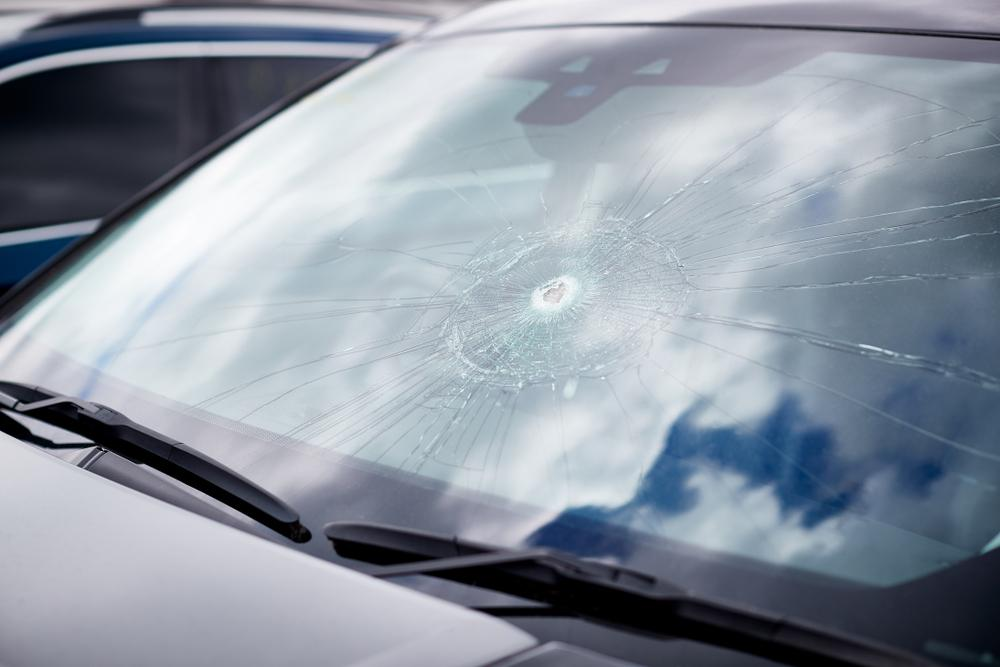glass shatter: (0, 24, 1000, 667)
